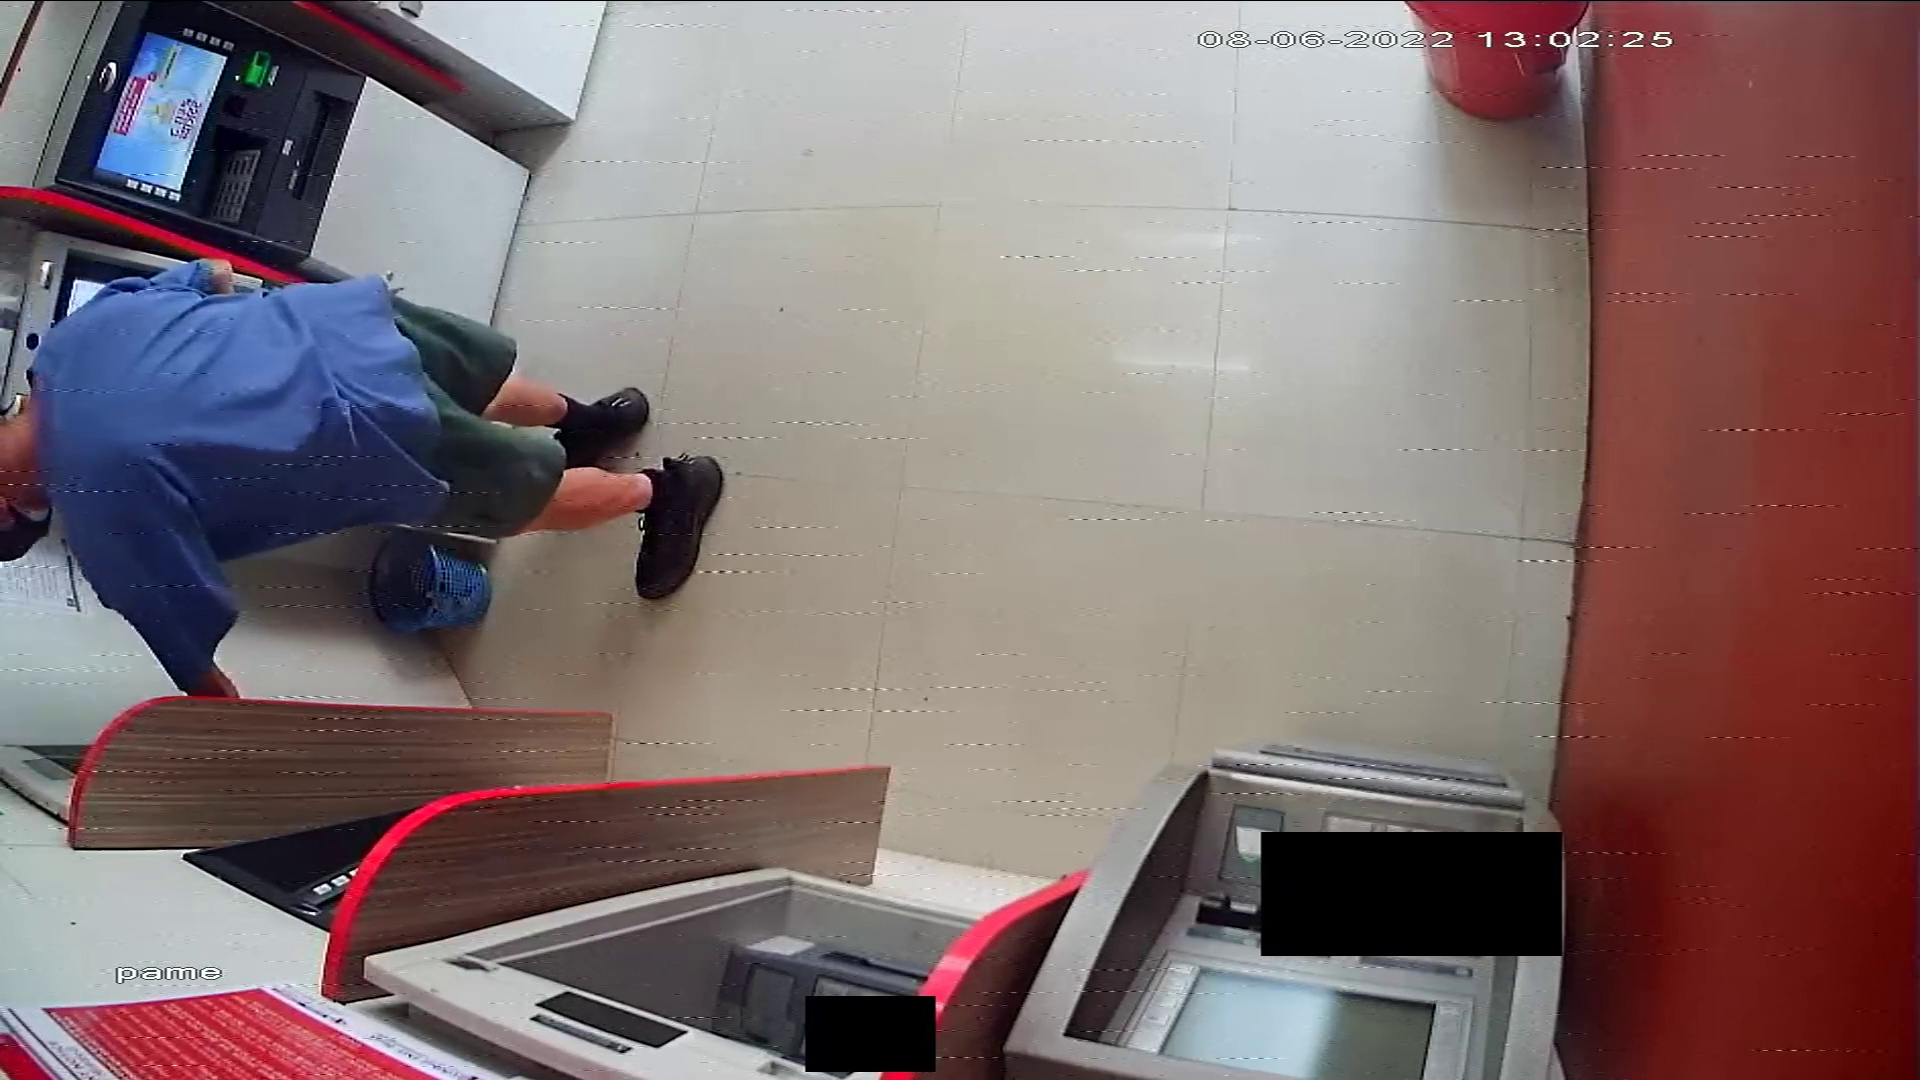person: (1, 256, 733, 696)
